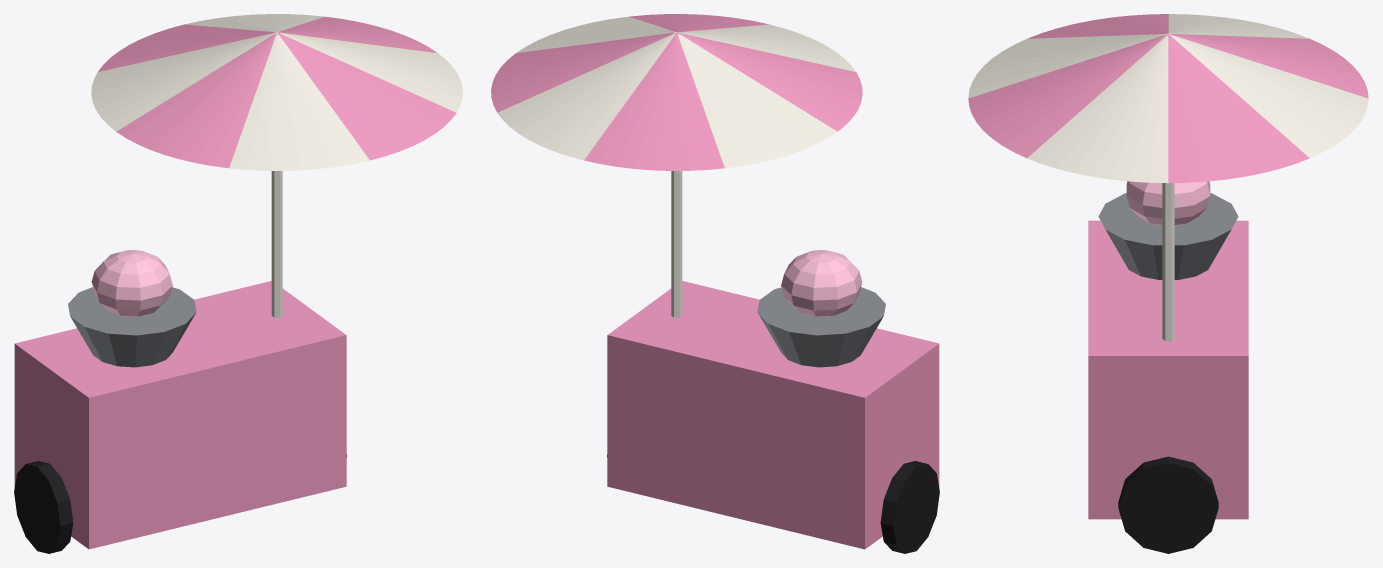
File: cotton_candy_cart.glb
The picture shows the model from 3 angles, left to right: view 1: azimuth 30°, elevation 25°; view 2: azimuth 150°, elevation 25°; view 3: azimuth 270°, elevation 25°; orthographic projection. The views are drawn at different scales.
Parts seen in each view (by area): view 1: cart_candy_pink, umbrella_candy_pink, umbrella_fair_white, bowl_fair_steel, cloud_candy_cloud, wheels_bumper_rubber, pole_fair_white; view 2: cart_candy_pink, umbrella_fair_white, umbrella_candy_pink, bowl_fair_steel, cloud_candy_cloud, wheels_bumper_rubber, pole_fair_white; view 3: cart_candy_pink, umbrella_candy_pink, umbrella_fair_white, wheels_bumper_rubber, bowl_fair_steel, cloud_candy_cloud, pole_fair_white.
Boxes of the visible parts, box(x1,y1,x2,y2) form: cart_candy_pink: box(14, 281, 346, 549); umbrella_candy_pink: box(98, 16, 456, 168); umbrella_fair_white: box(91, 14, 462, 170); bowl_fair_steel: box(68, 287, 196, 367); cloud_candy_cloud: box(91, 250, 172, 316); wheels_bumper_rubber: box(14, 461, 73, 553); pole_fair_white: box(271, 171, 282, 317); cart_candy_pink: box(607, 281, 939, 549); umbrella_fair_white: box(497, 16, 855, 168); umbrella_candy_pink: box(491, 14, 862, 170); bowl_fair_steel: box(757, 287, 885, 367); cloud_candy_cloud: box(781, 250, 862, 316); wheels_bumper_rubber: box(880, 461, 939, 553); pole_fair_white: box(671, 171, 682, 317); cart_candy_pink: box(1088, 220, 1248, 519); umbrella_candy_pink: box(968, 14, 1368, 183); umbrella_fair_white: box(968, 14, 1368, 183); wheels_bumper_rubber: box(1118, 456, 1218, 553); bowl_fair_steel: box(1098, 193, 1238, 279); cloud_candy_cloud: box(1126, 181, 1210, 225); pole_fair_white: box(1162, 183, 1174, 341).
Size of the model in its own units: 2.49 by 2.72 by 2.
